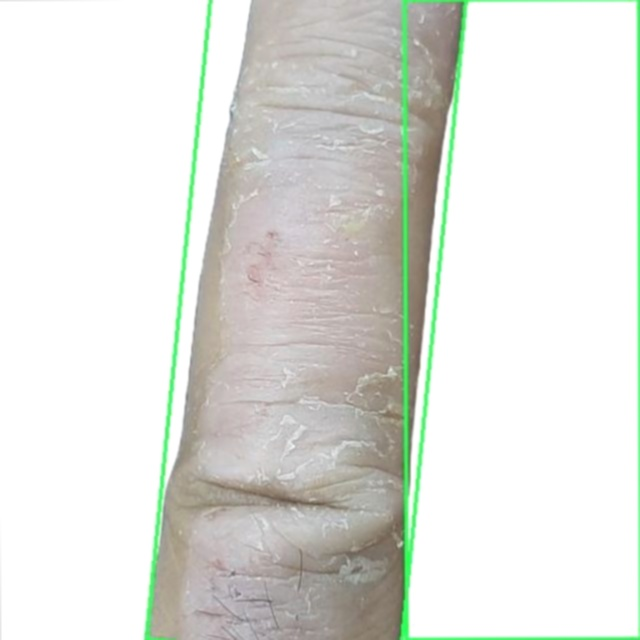Eczema: (145, 0, 465, 639), (404, 0, 639, 639)
